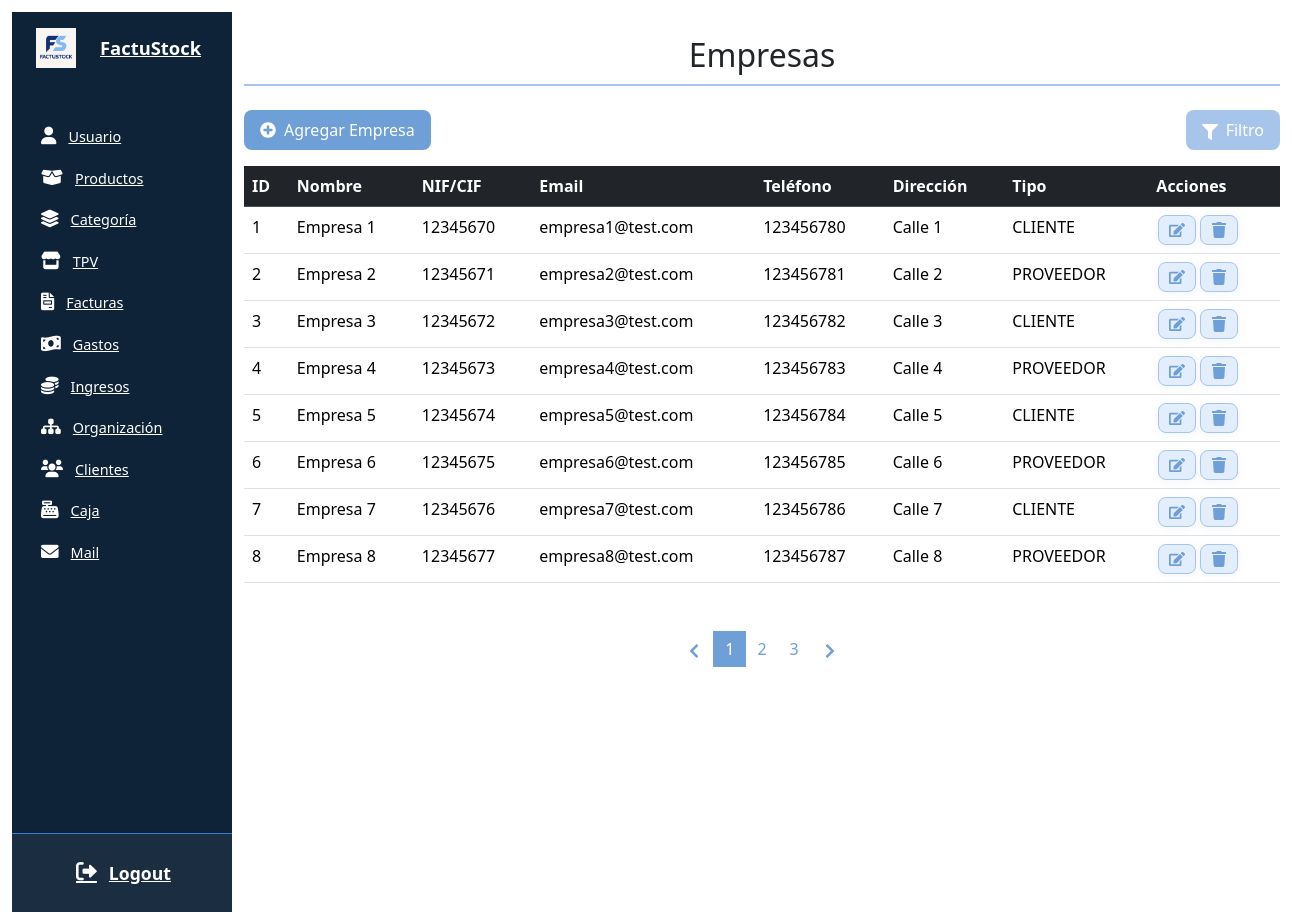
Test case: EmpresaPersonaFisicaComponent › maneja la paginación correctamente
Expected: the text "Empresa 1" is shown, [289, 207, 414, 254]
Expected: the text "Empresa 10" is not shown
Click the button "2": (762, 649) [745, 631, 779, 667]
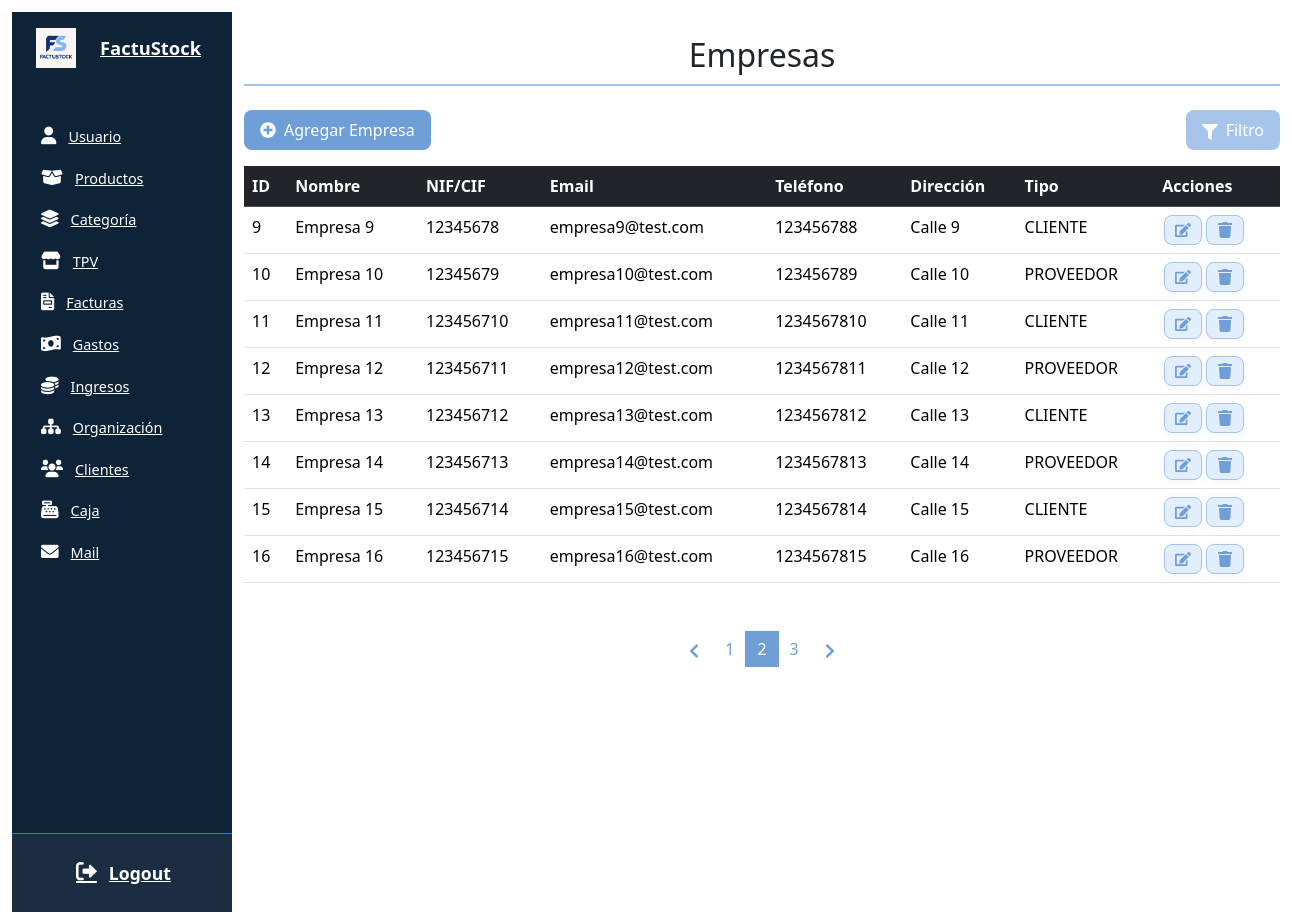
Expected: the text "Empresa 10" is shown, [287, 254, 418, 301]
